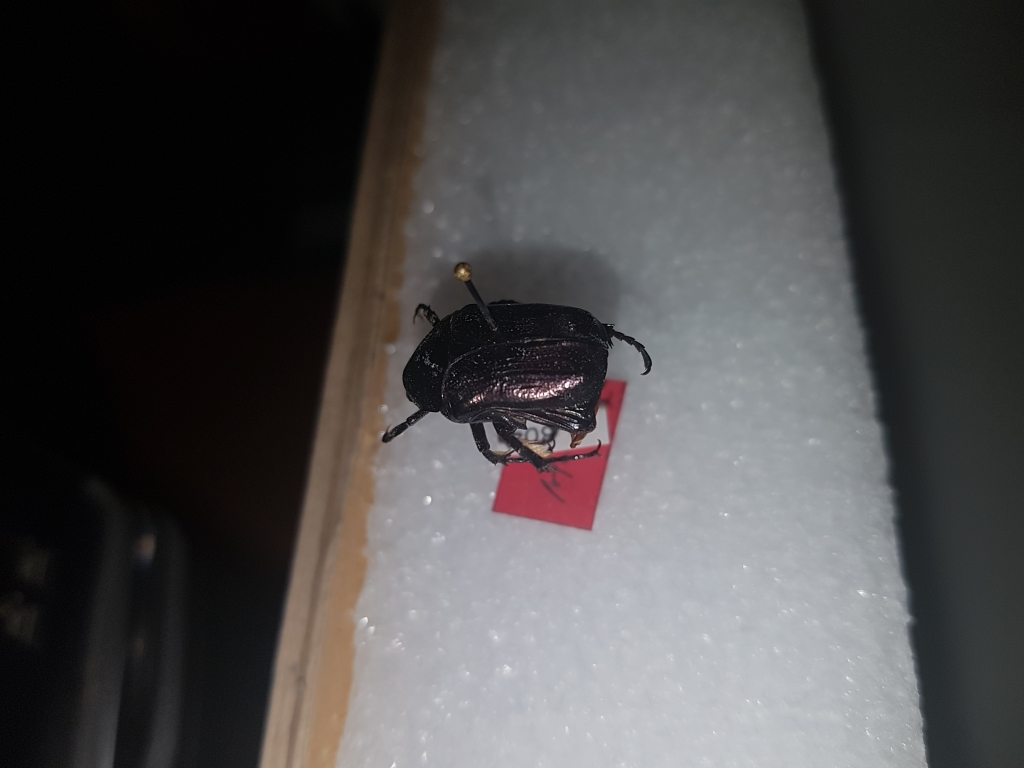Protaetia_besucheti: (369, 277, 667, 484)
